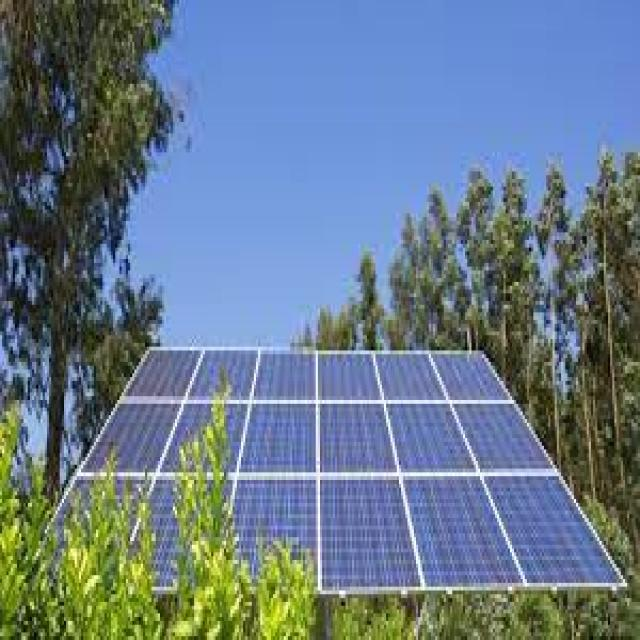clean-solar-panel: (56, 348, 625, 594)
